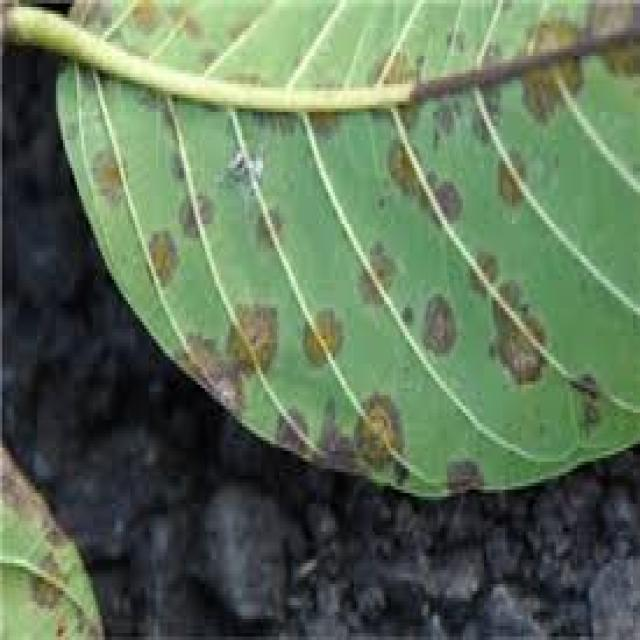leaf_spot: (51, 10, 628, 521)
